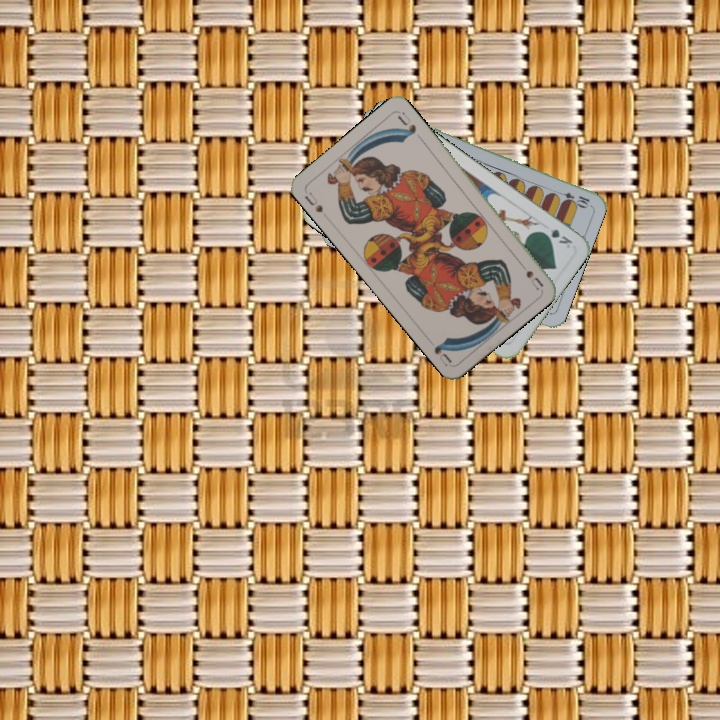E10: (552, 187, 592, 209)
GK: (537, 225, 575, 251)
SU: (514, 256, 546, 292), (300, 187, 326, 215)
